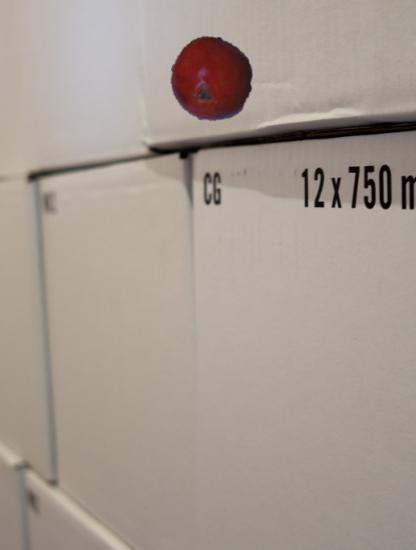Pomegranate: (170, 37, 255, 122)
